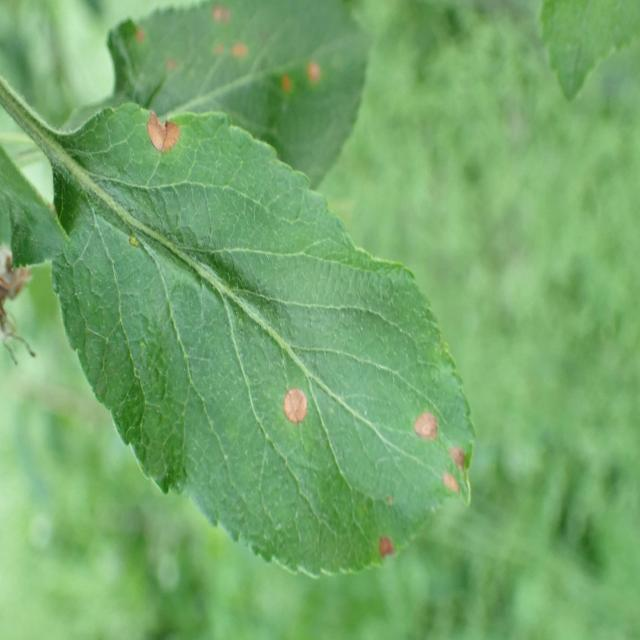Black Rot: (124, 89, 178, 183), (434, 438, 482, 534), (336, 518, 414, 562), (408, 400, 447, 445), (282, 381, 310, 434)
